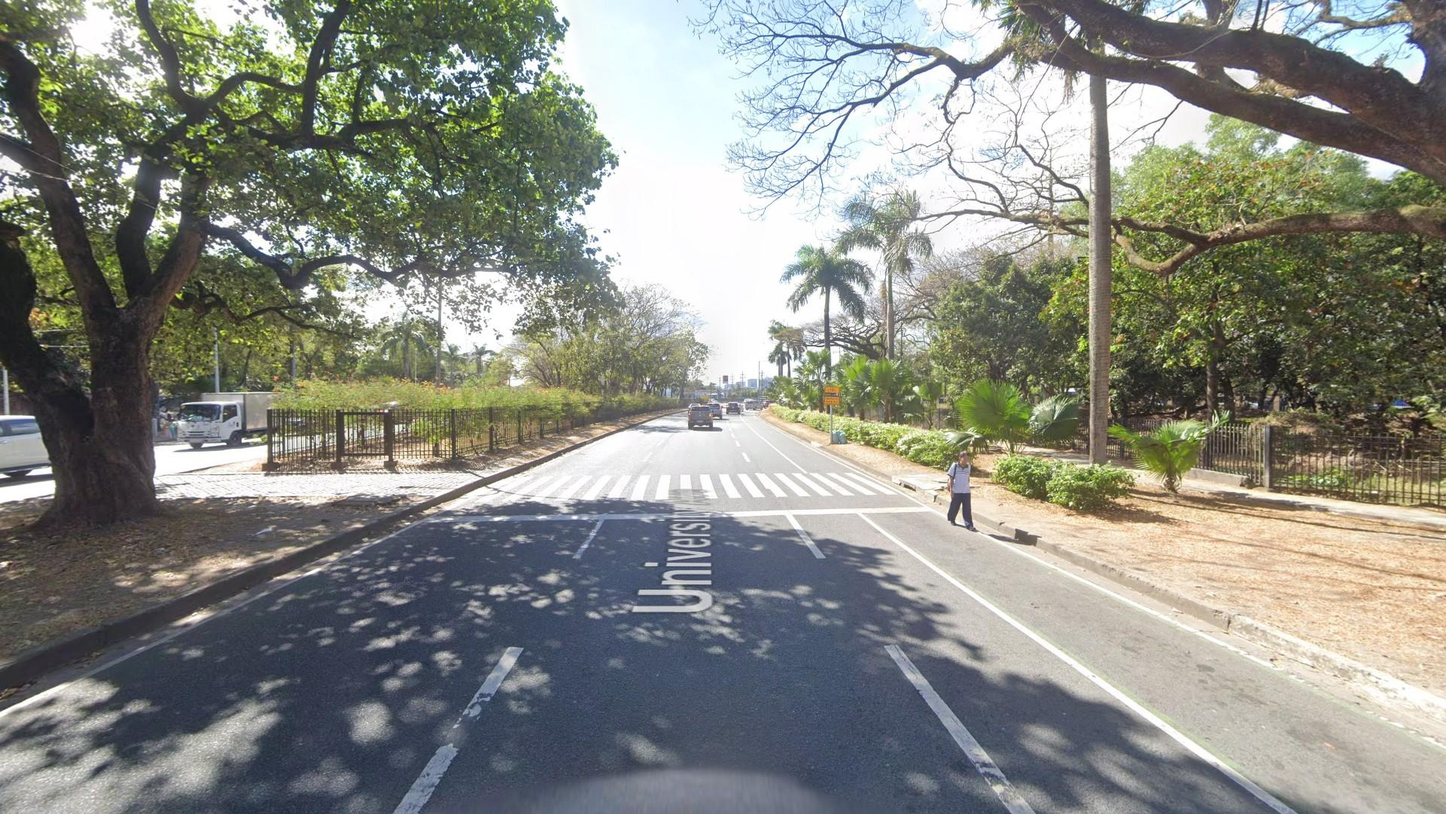pedestrian: (946, 451, 976, 533)
